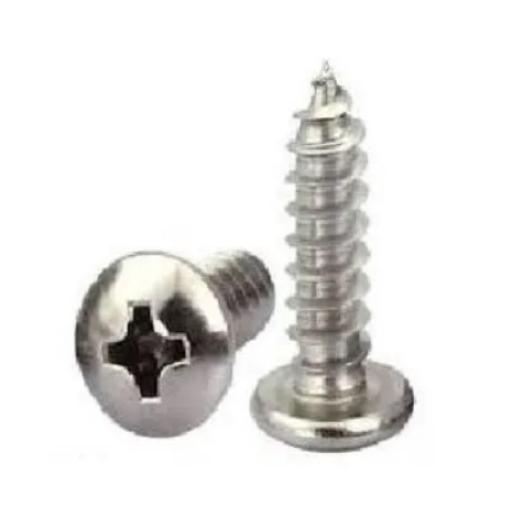Phillips: (73, 244, 232, 440)
